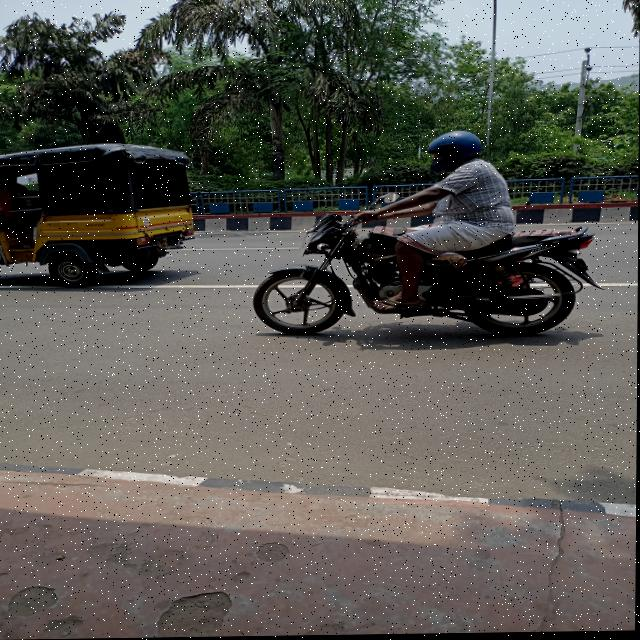bike: (252, 202, 602, 342)
